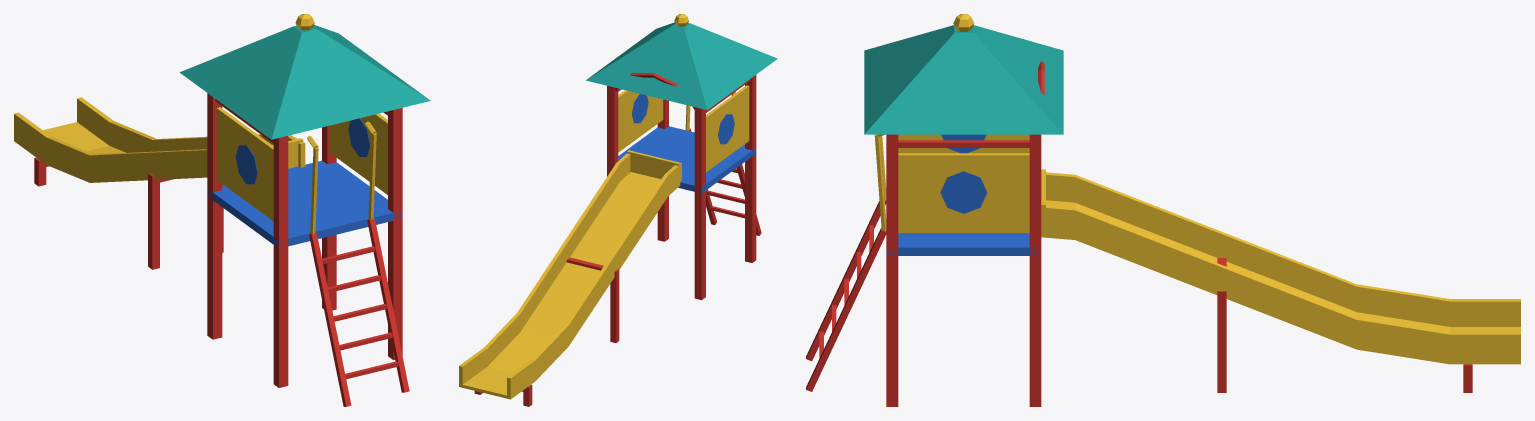
Rendered from playground_slide.glb.
The picture shows the model from 3 angles, left to right: view 1: azimuth 30°, elevation 25°; view 2: azimuth 150°, elevation 25°; view 3: azimuth 270°, elevation 25°; orthographic projection. The views are drawn at different scales.
Parts seen in each view (by area): view 1: Slide; view 2: Slide; view 3: Slide.
Boxes of the visible parts, x1=… form: Slide: x1=14, y1=14, x2=430, y2=406; Slide: x1=459, y1=14, x2=777, y2=406; Slide: x1=806, y1=14, x2=1520, y2=406.
Bounding box in the file's own units: 1.7 × 3.4 × 6.1.
